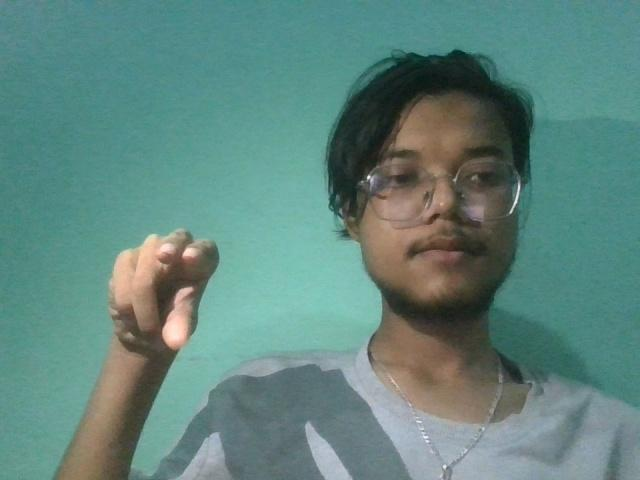No: (91, 221, 231, 363)
